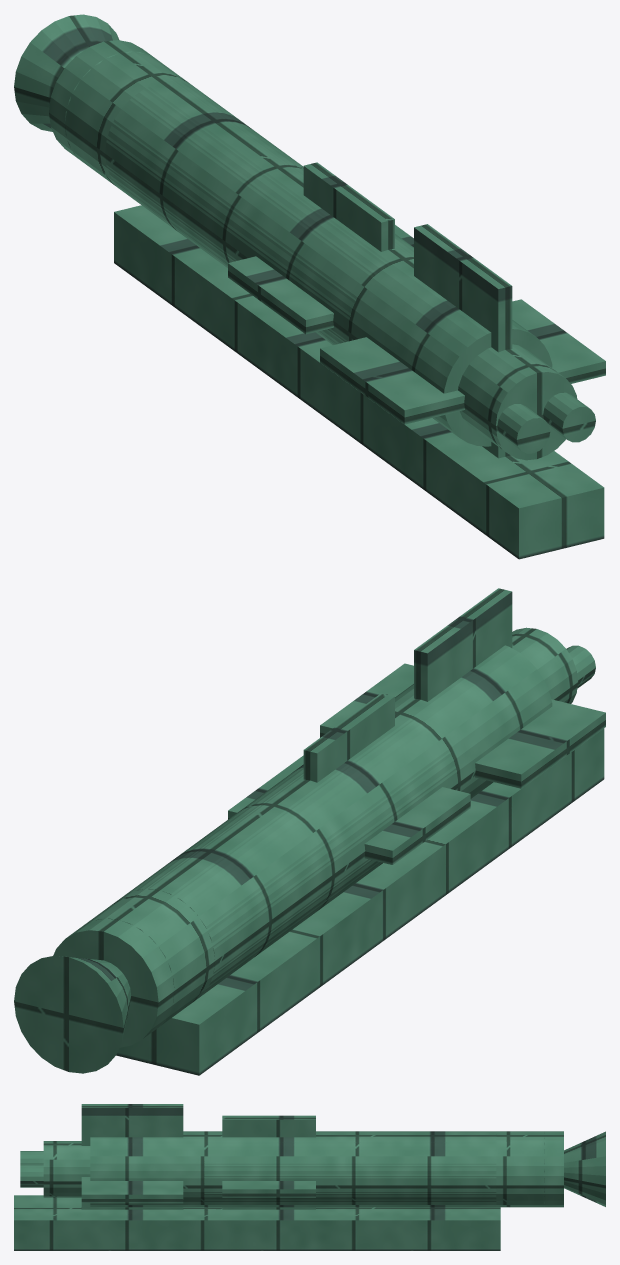
Rendered from viperx_missile.glb.
3 renders of one model, top to bottom at view 1: azimuth 30°, elevation 25°; view 2: azimuth 150°, elevation 25°; view 3: azimuth 270°, elevation 25°, orthographic. The views are drawn at different scales.
Visible parts, largest first — view 1: missile_body, launch_rail, projectile_body, clipped_fin_0, projectile, exhaust, clipped_fin_1, projectile_nose, dual_exhaust_-0.075, dual_exhaust_0.075; view 2: missile_body, launch_rail, projectile_body, projectile_nose, projectile, clipped_fin_0, clipped_fin_1, exhaust, dual_exhaust_-0.075; view 3: missile_body, launch_rail, projectile_body, projectile, clipped_fin_1, exhaust, projectile_nose, clipped_fin_0, dual_exhaust_0.075, dual_exhaust_-0.075.
Part boxes in pixels (x1,y1,x2,y2): missile_body: [105, 81, 552, 446]; launch_rail: [114, 205, 604, 559]; projectile_body: [49, 40, 413, 344]; clipped_fin_0: [320, 299, 605, 424]; projectile: [228, 162, 413, 334]; exhaust: [458, 344, 577, 460]; clipped_fin_1: [414, 224, 512, 458]; projectile_nose: [14, 14, 119, 131]; dual_exhaust_-0.075: [497, 404, 550, 453]; dual_exhaust_0.075: [543, 392, 595, 442]; missile_body: [123, 645, 552, 997]; launch_rail: [116, 728, 604, 1075]; projectile_body: [53, 717, 456, 1047]; projectile_nose: [14, 955, 131, 1073]; projectile: [228, 693, 470, 864]; clipped_fin_0: [320, 663, 605, 788]; clipped_fin_1: [414, 588, 512, 701]; exhaust: [512, 627, 577, 703]; dual_exhaust_-0.075: [566, 645, 595, 688]; missile_body: [90, 1131, 496, 1207]; launch_rail: [14, 1195, 500, 1250]; projectile_body: [204, 1131, 563, 1207]; projectile: [222, 1115, 315, 1209]; clipped_fin_1: [81, 1104, 183, 1209]; exhaust: [43, 1141, 90, 1197]; projectile_nose: [564, 1131, 605, 1206]; clipped_fin_0: [81, 1177, 183, 1203]; dual_exhaust_0.075: [20, 1164, 43, 1187]; dual_exhaust_-0.075: [20, 1151, 43, 1164].
Size of the model in its own units: 0.66 by 0.69 by 2.8.
Materials: 1 (1 with a texture image).
